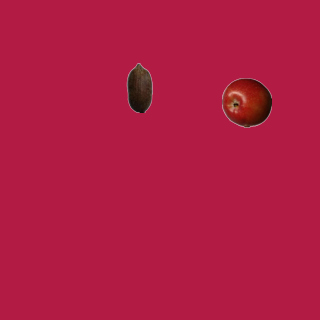Apple Braeburn: (221, 77, 271, 127)
Nut Pecan: (114, 62, 164, 112)
